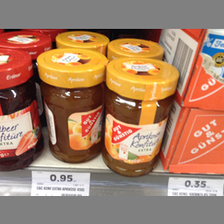jam: (105, 56, 181, 178), (37, 47, 107, 163), (1, 48, 45, 172)
